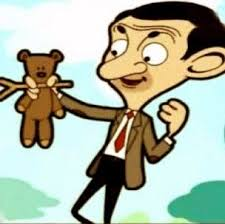mrbean: (48, 1, 224, 224)
